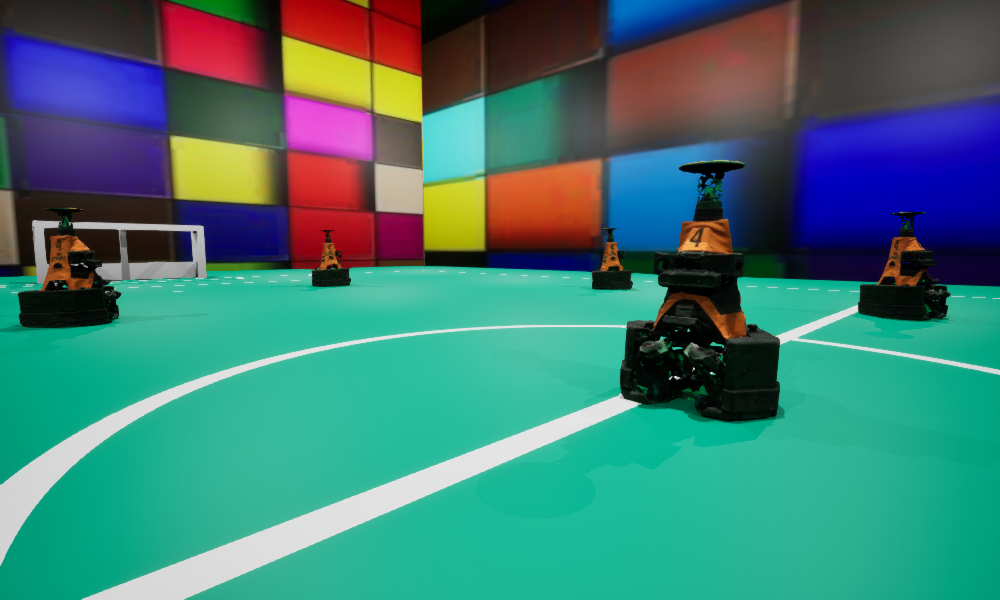0 orange robot TechUnited: (620, 160, 779, 418), (18, 208, 121, 327), (858, 212, 950, 320), (592, 228, 632, 289), (312, 230, 350, 286)
